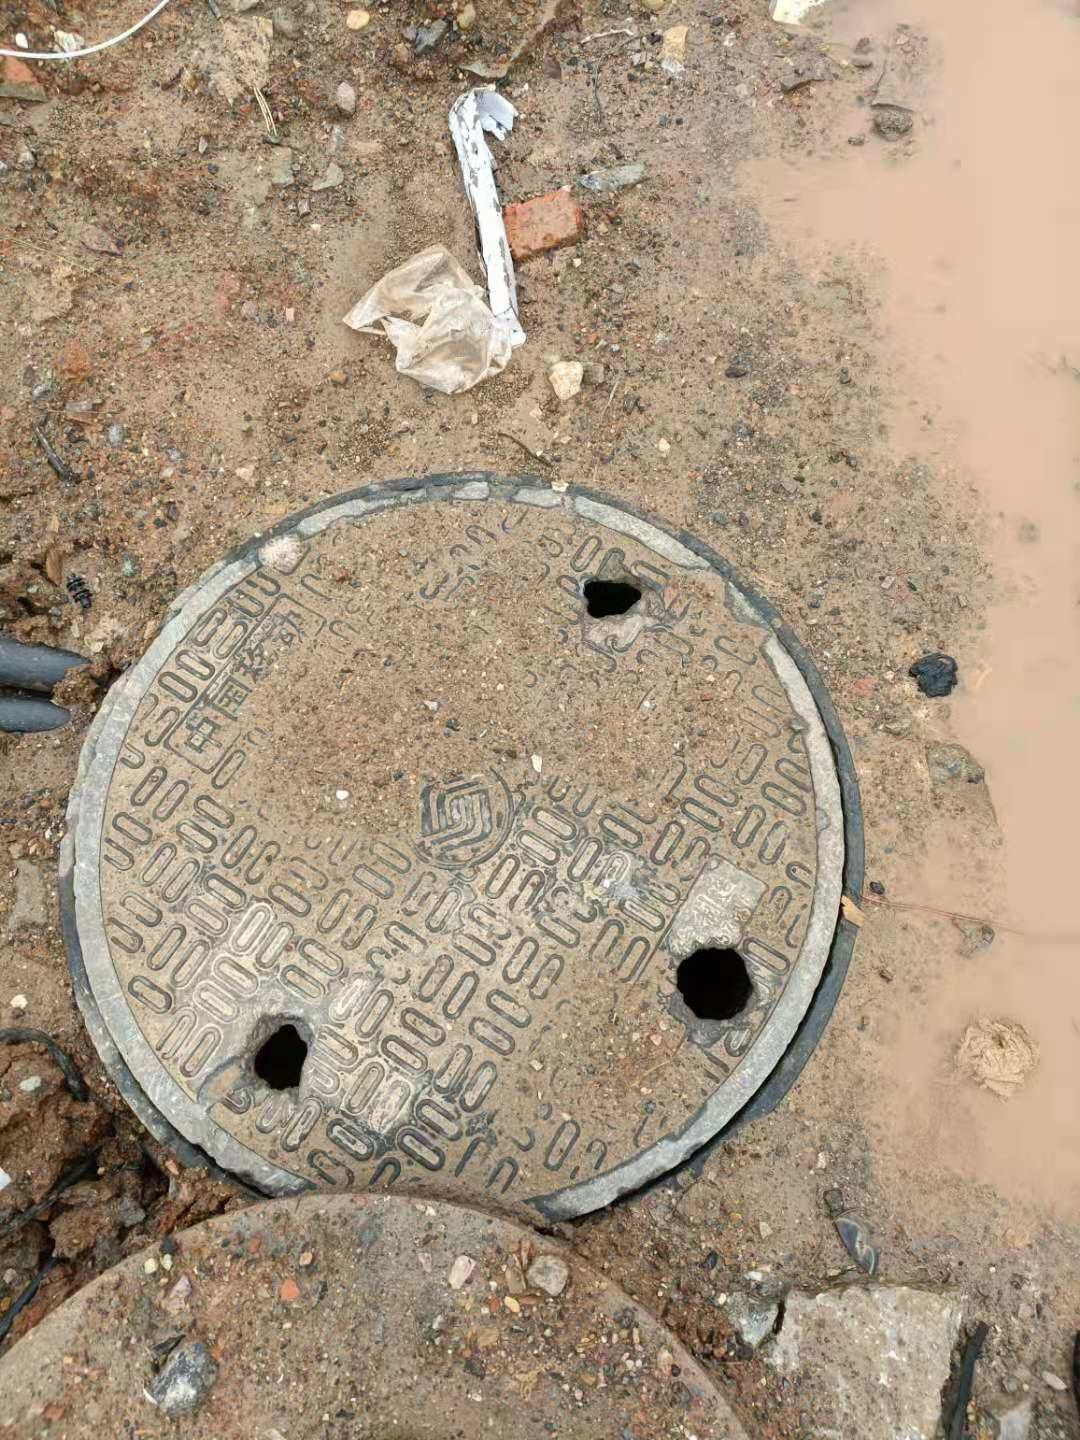broke: (54, 471, 860, 1233)
